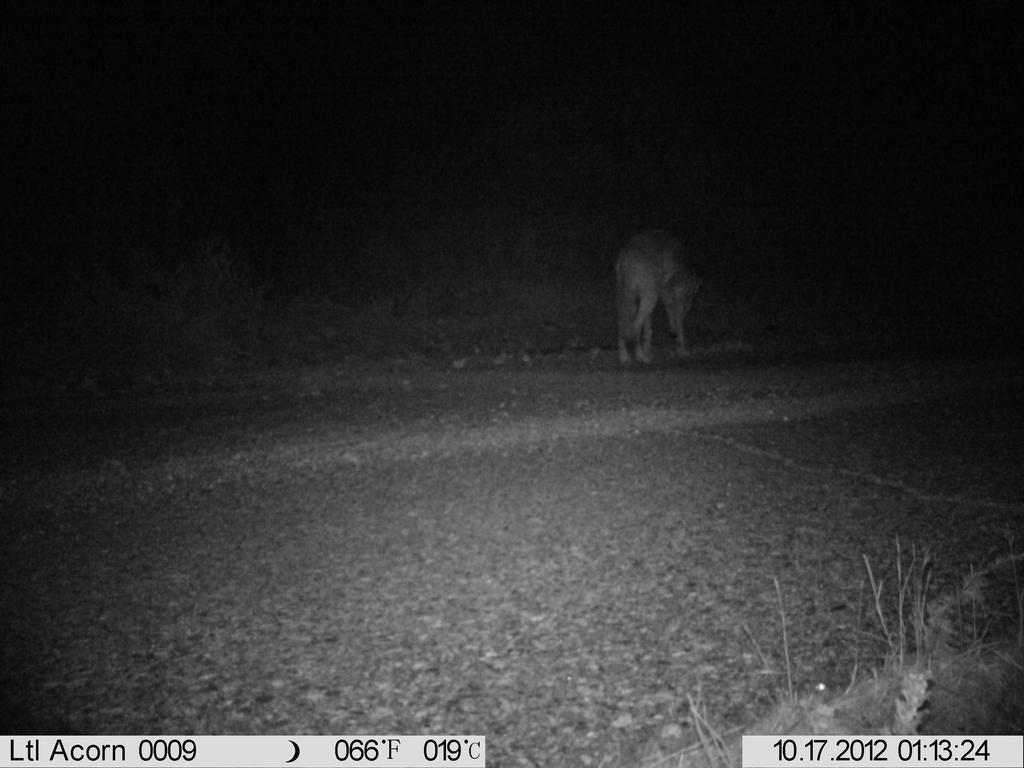coyote: (593, 214, 725, 373)
